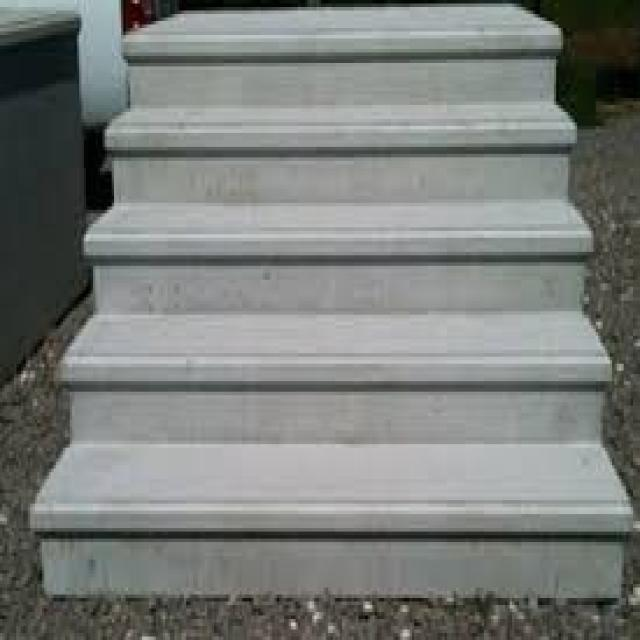stairs: (28, 0, 633, 605)
